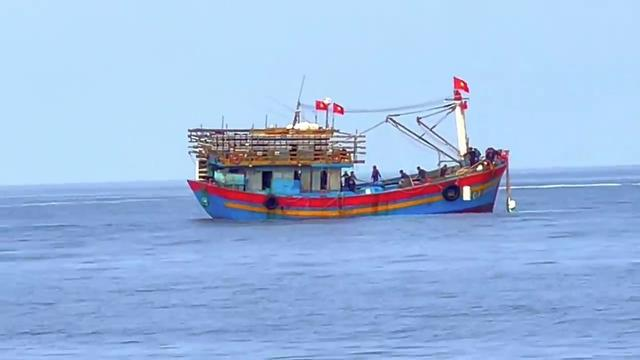Ship: (182, 101, 513, 223)
